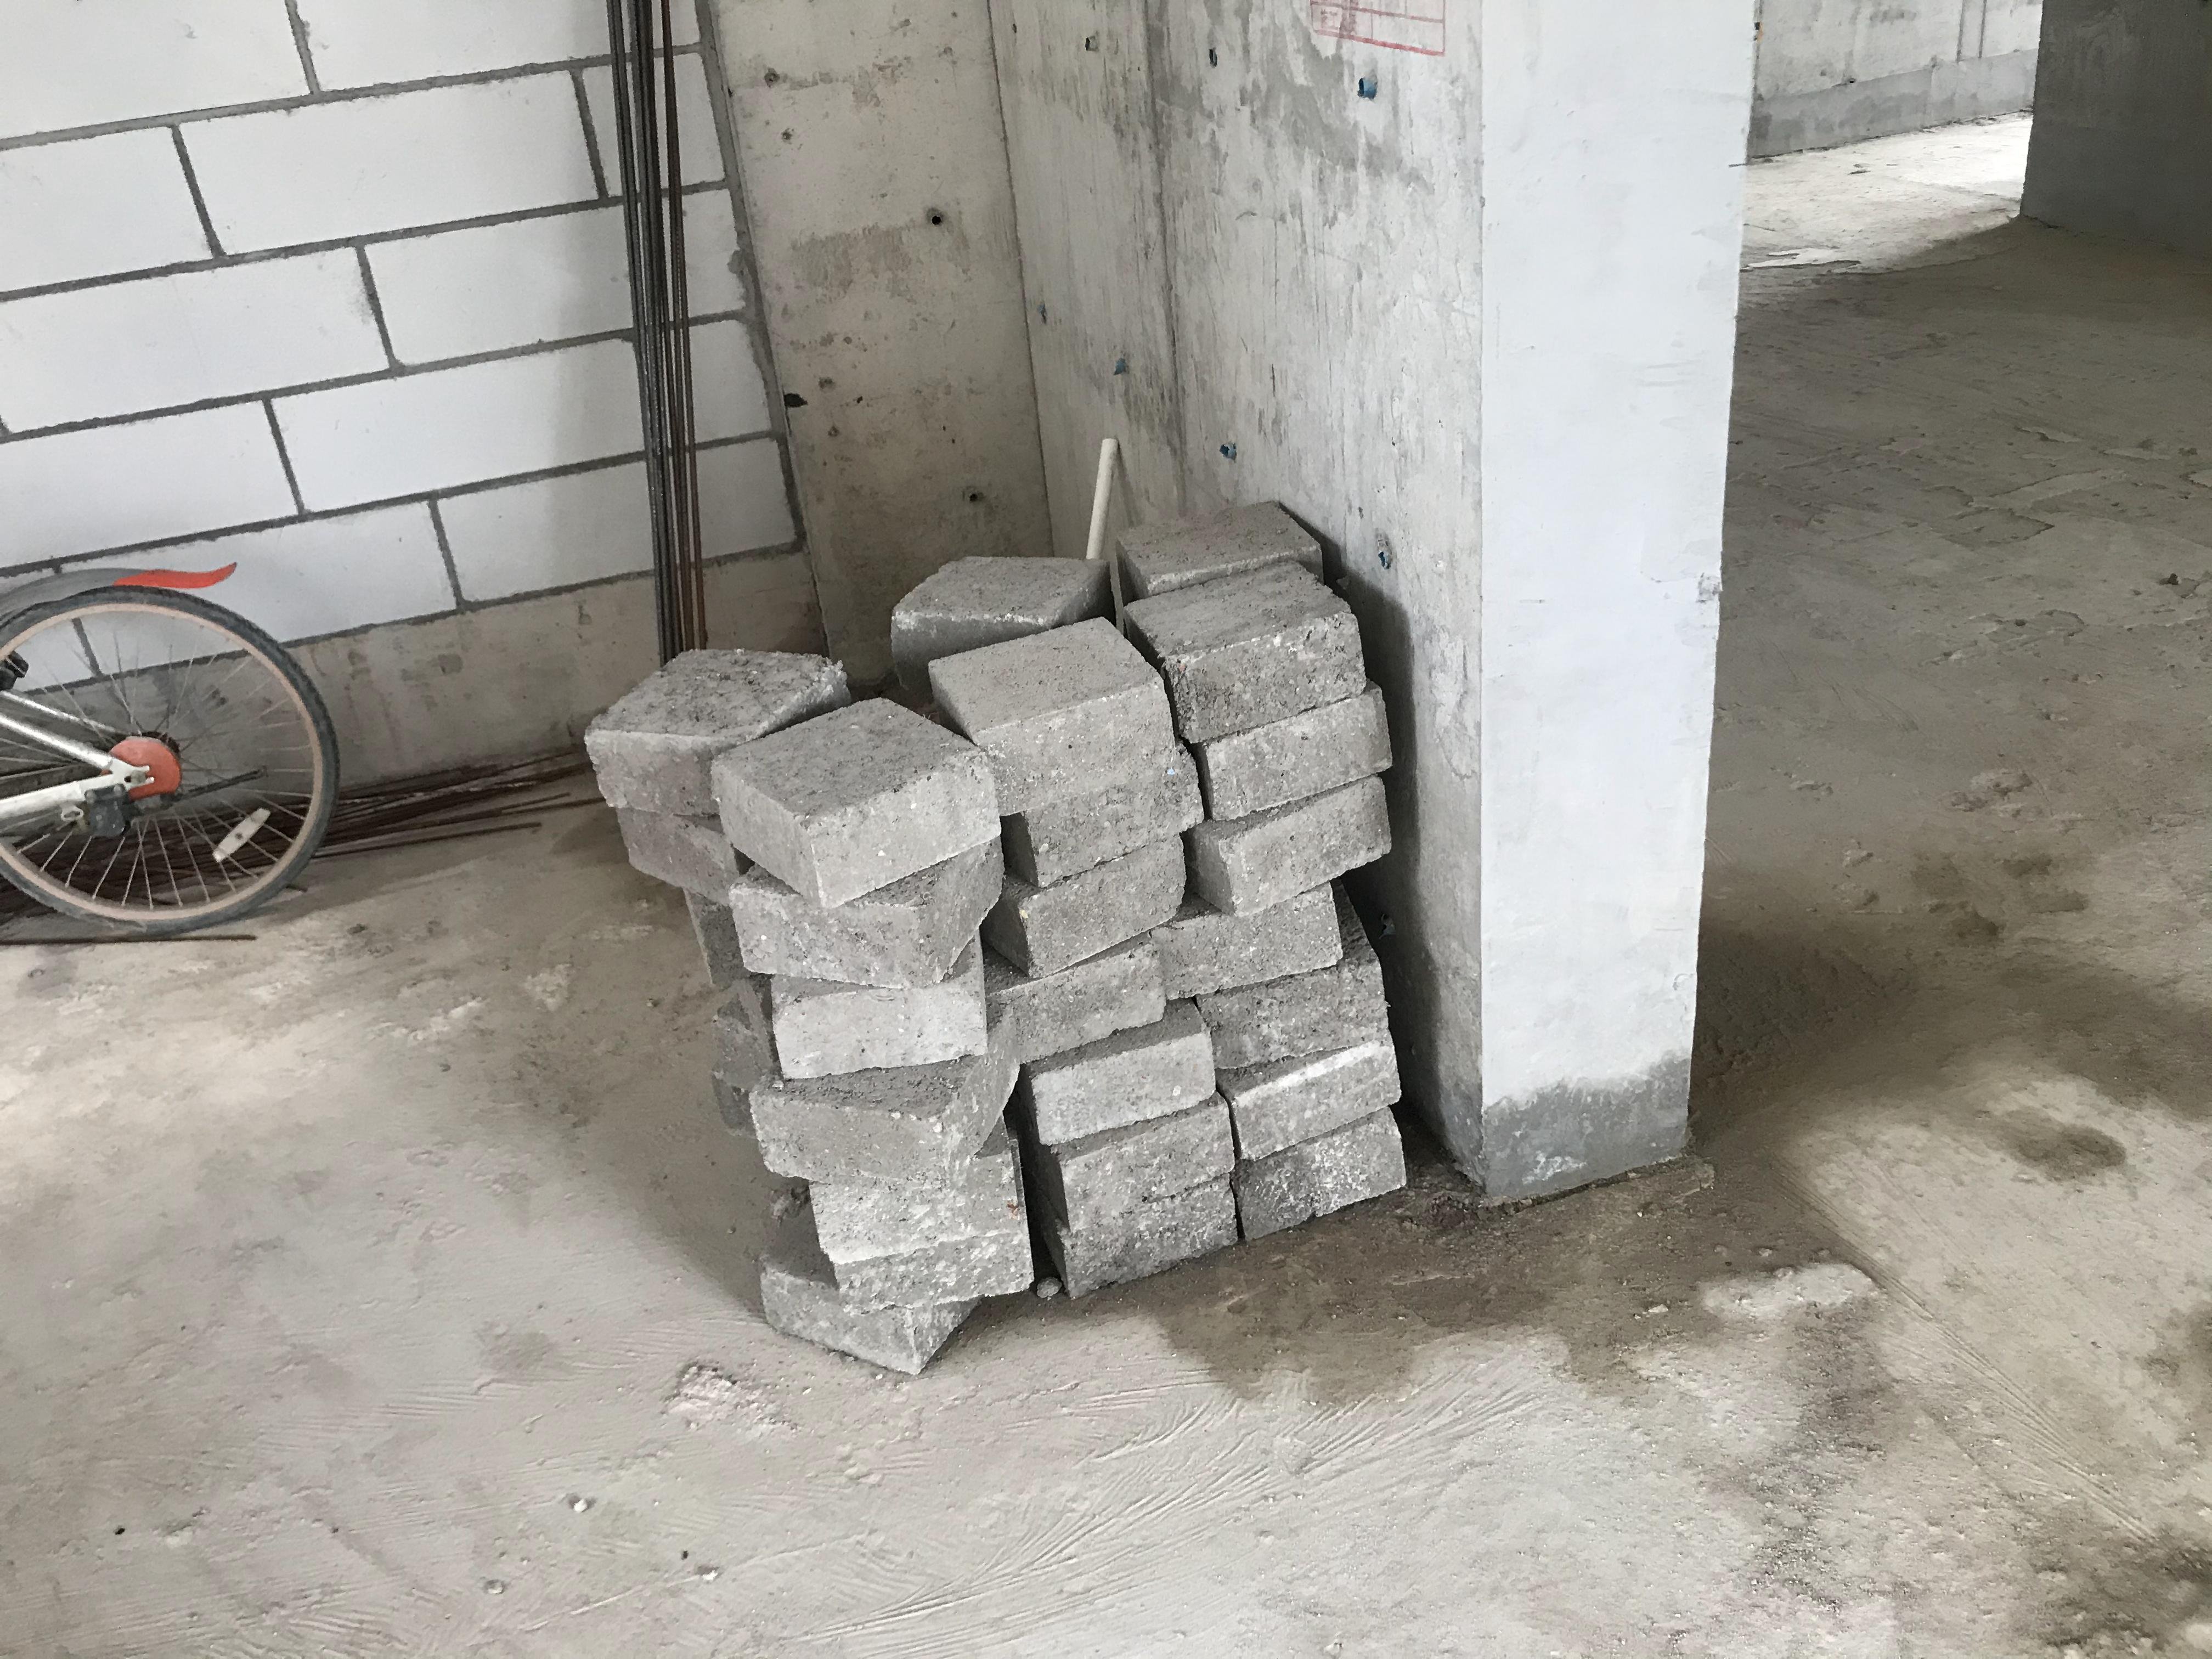brick: (590, 486, 1423, 1368)
